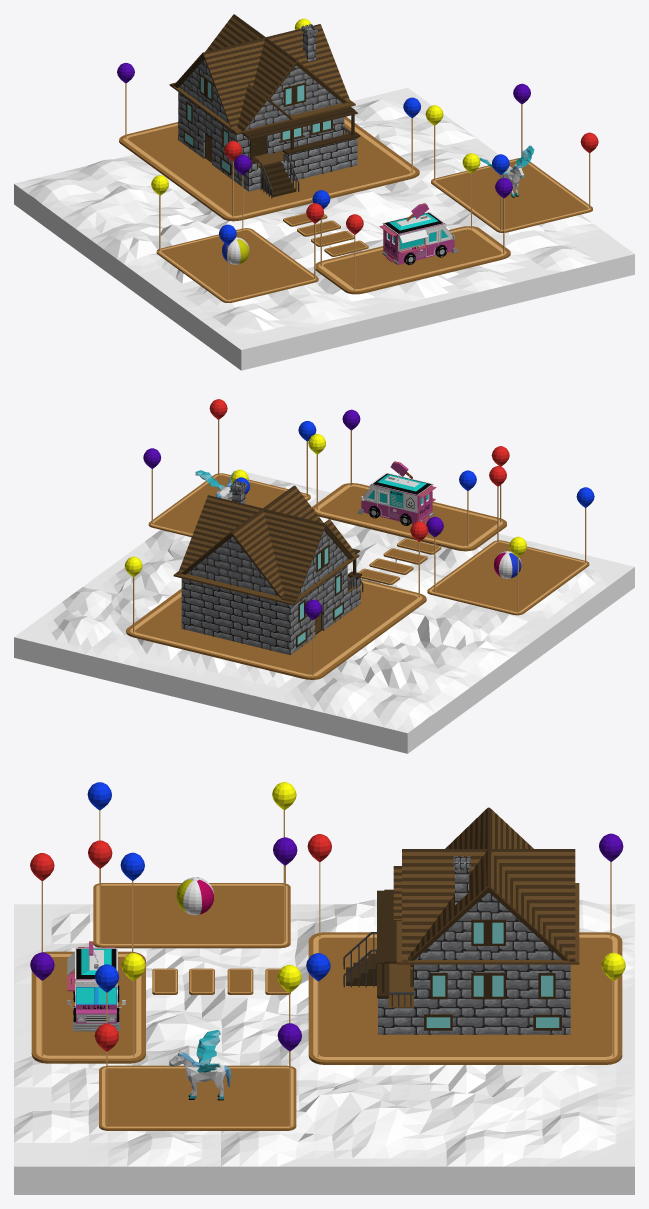
3 views of the same model, one above another, from view 1: azimuth 30°, elevation 25°; view 2: azimuth 150°, elevation 25°; view 3: azimuth 270°, elevation 25° (orthographic). The views are drawn at different scales.
Parts seen in each view (by area): view 1: Cube.013, Cube.586, VEHICLES_ICE_CREAM_TRUCK, ANIMAL_PEGASO, OBJRANDOM_BEACHBALL; view 2: Cube.013, Cube.586, VEHICLES_ICE_CREAM_TRUCK, OBJRANDOM_BEACHBALL; view 3: Cube.013, Cube.586, VEHICLES_ICE_CREAM_TRUCK, ANIMAL_PEGASO, OBJRANDOM_BEACHBALL.
Part boxes in pixels (box(x1,y1,x2,y2)): Cube.013: box(14, 18, 634, 370); Cube.586: box(169, 14, 360, 198); VEHICLES_ICE_CREAM_TRUCK: box(379, 203, 458, 264); ANIMAL_PEGASO: box(479, 145, 534, 197); OBJRANDOM_BEACHBALL: box(222, 237, 249, 264); Cube.013: box(14, 399, 634, 753); Cube.586: box(173, 481, 363, 654); VEHICLES_ICE_CREAM_TRUCK: box(357, 461, 436, 525); OBJRANDOM_BEACHBALL: box(494, 551, 521, 578); Cube.013: box(14, 782, 634, 1194); Cube.586: box(343, 807, 579, 1034); VEHICLES_ICE_CREAM_TRUCK: box(67, 941, 125, 1031); ANIMAL_PEGASO: box(169, 1030, 231, 1100); OBJRANDOM_BEACHBALL: box(176, 877, 213, 915).
Size of the model in its own units: 4000 by 1798 by 4000.
Materials: 40 (2 with a texture image).
